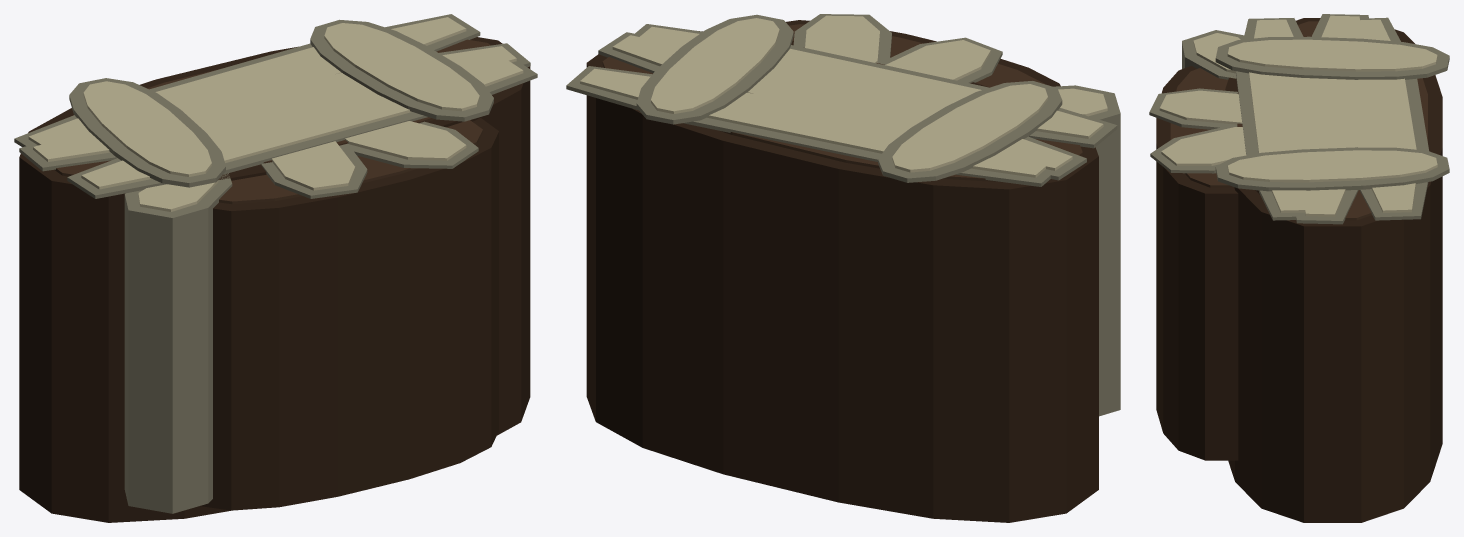
File: bag_mumia.fbx
3 views of the same model, side by side, from view 1: azimuth 30°, elevation 25°; view 2: azimuth 150°, elevation 25°; view 3: azimuth 270°, elevation 25° (orthographic). The views are drawn at different scales.
Visible parts, largest first — view 1: bag_mumia_mochila; view 2: bag_mumia_mochila; view 3: bag_mumia_mochila.
Part boxes in pixels (x1,y1,x2,y2): bag_mumia_mochila: (14,14,537,522); bag_mumia_mochila: (566,14,1120,522); bag_mumia_mochila: (1149,14,1449,522).
Bounding box in the file's own units: 2.71 × 1.88 × 1.65.
Materials: 1 (1 with a texture image).
